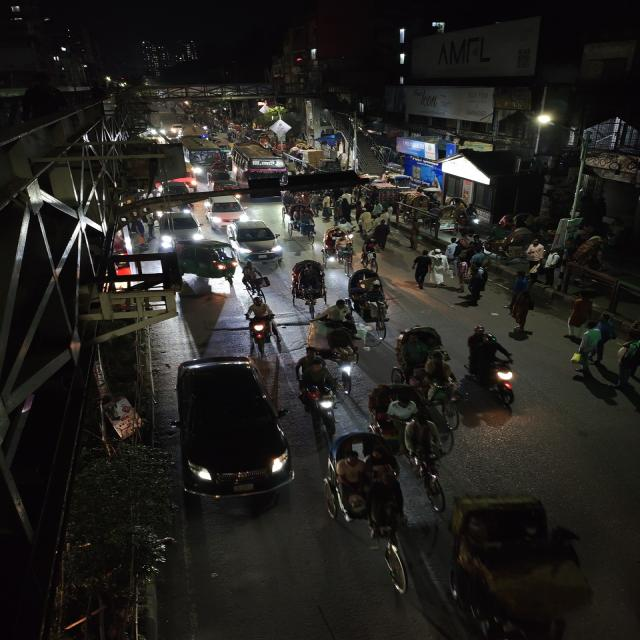bicycle: (358, 294, 392, 340), (239, 259, 272, 299)
bus: (232, 144, 289, 182), (180, 136, 223, 174)
car: (169, 355, 295, 520), (225, 218, 285, 262), (158, 212, 205, 246), (202, 196, 250, 226), (156, 178, 198, 196)
cng: (181, 240, 238, 286)
motorcycle: (462, 328, 522, 411), (295, 354, 342, 430), (326, 328, 364, 388), (243, 296, 280, 350)
pedestrian: (614, 322, 640, 417), (504, 289, 544, 331), (573, 322, 607, 371), (564, 294, 598, 338), (463, 261, 496, 305), (410, 249, 438, 290), (450, 253, 474, 286), (371, 220, 395, 252), (523, 240, 547, 271), (334, 197, 358, 227), (360, 237, 380, 270), (446, 237, 464, 267), (356, 208, 374, 236), (319, 195, 335, 222)
rickshaw: (321, 428, 430, 612), (396, 324, 456, 414), (288, 258, 329, 312), (287, 203, 318, 239)
